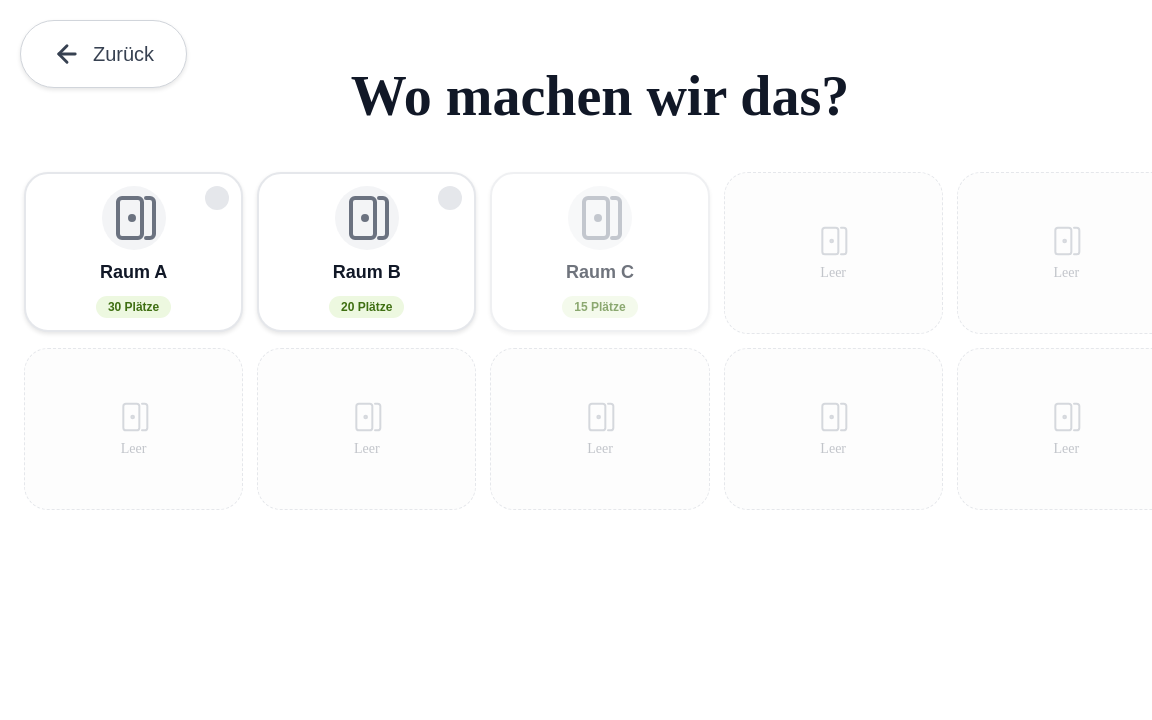
Test case: RoomSelectionPage › room selection › clicking available room opens confirmation modal
Click the text "Raum A": (134, 273) [100,262,167,284]
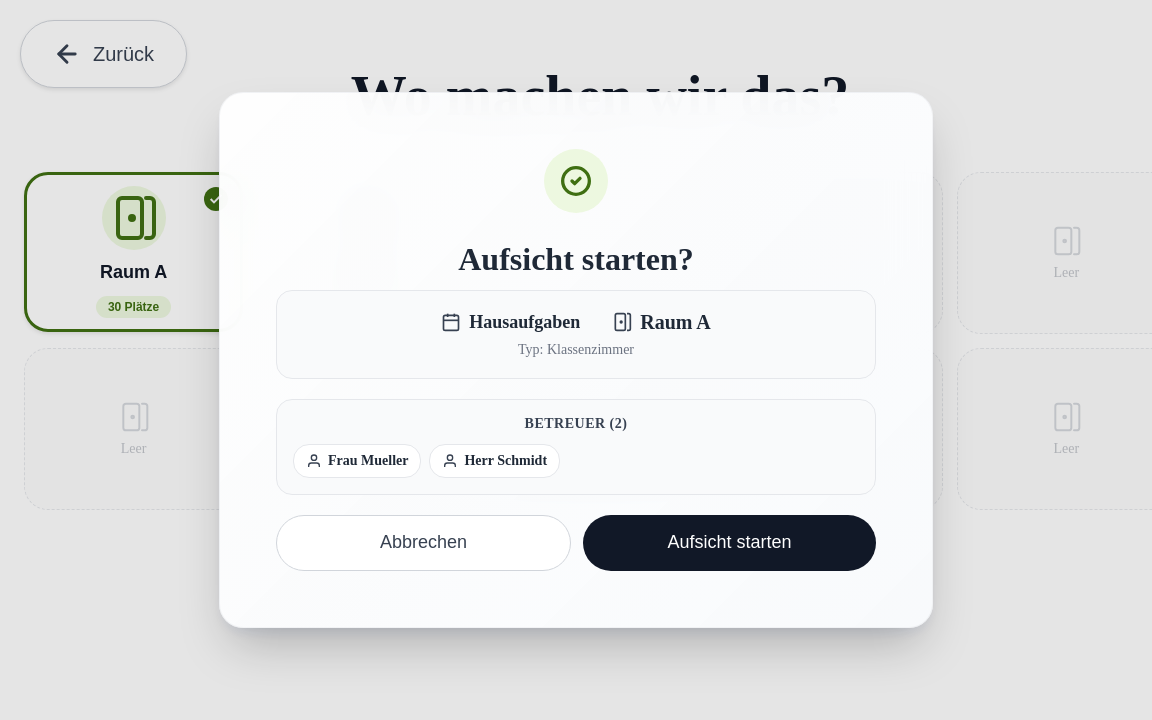
Expected: the heading "Aufsicht starten?" is shown, [458,241,694,277]
